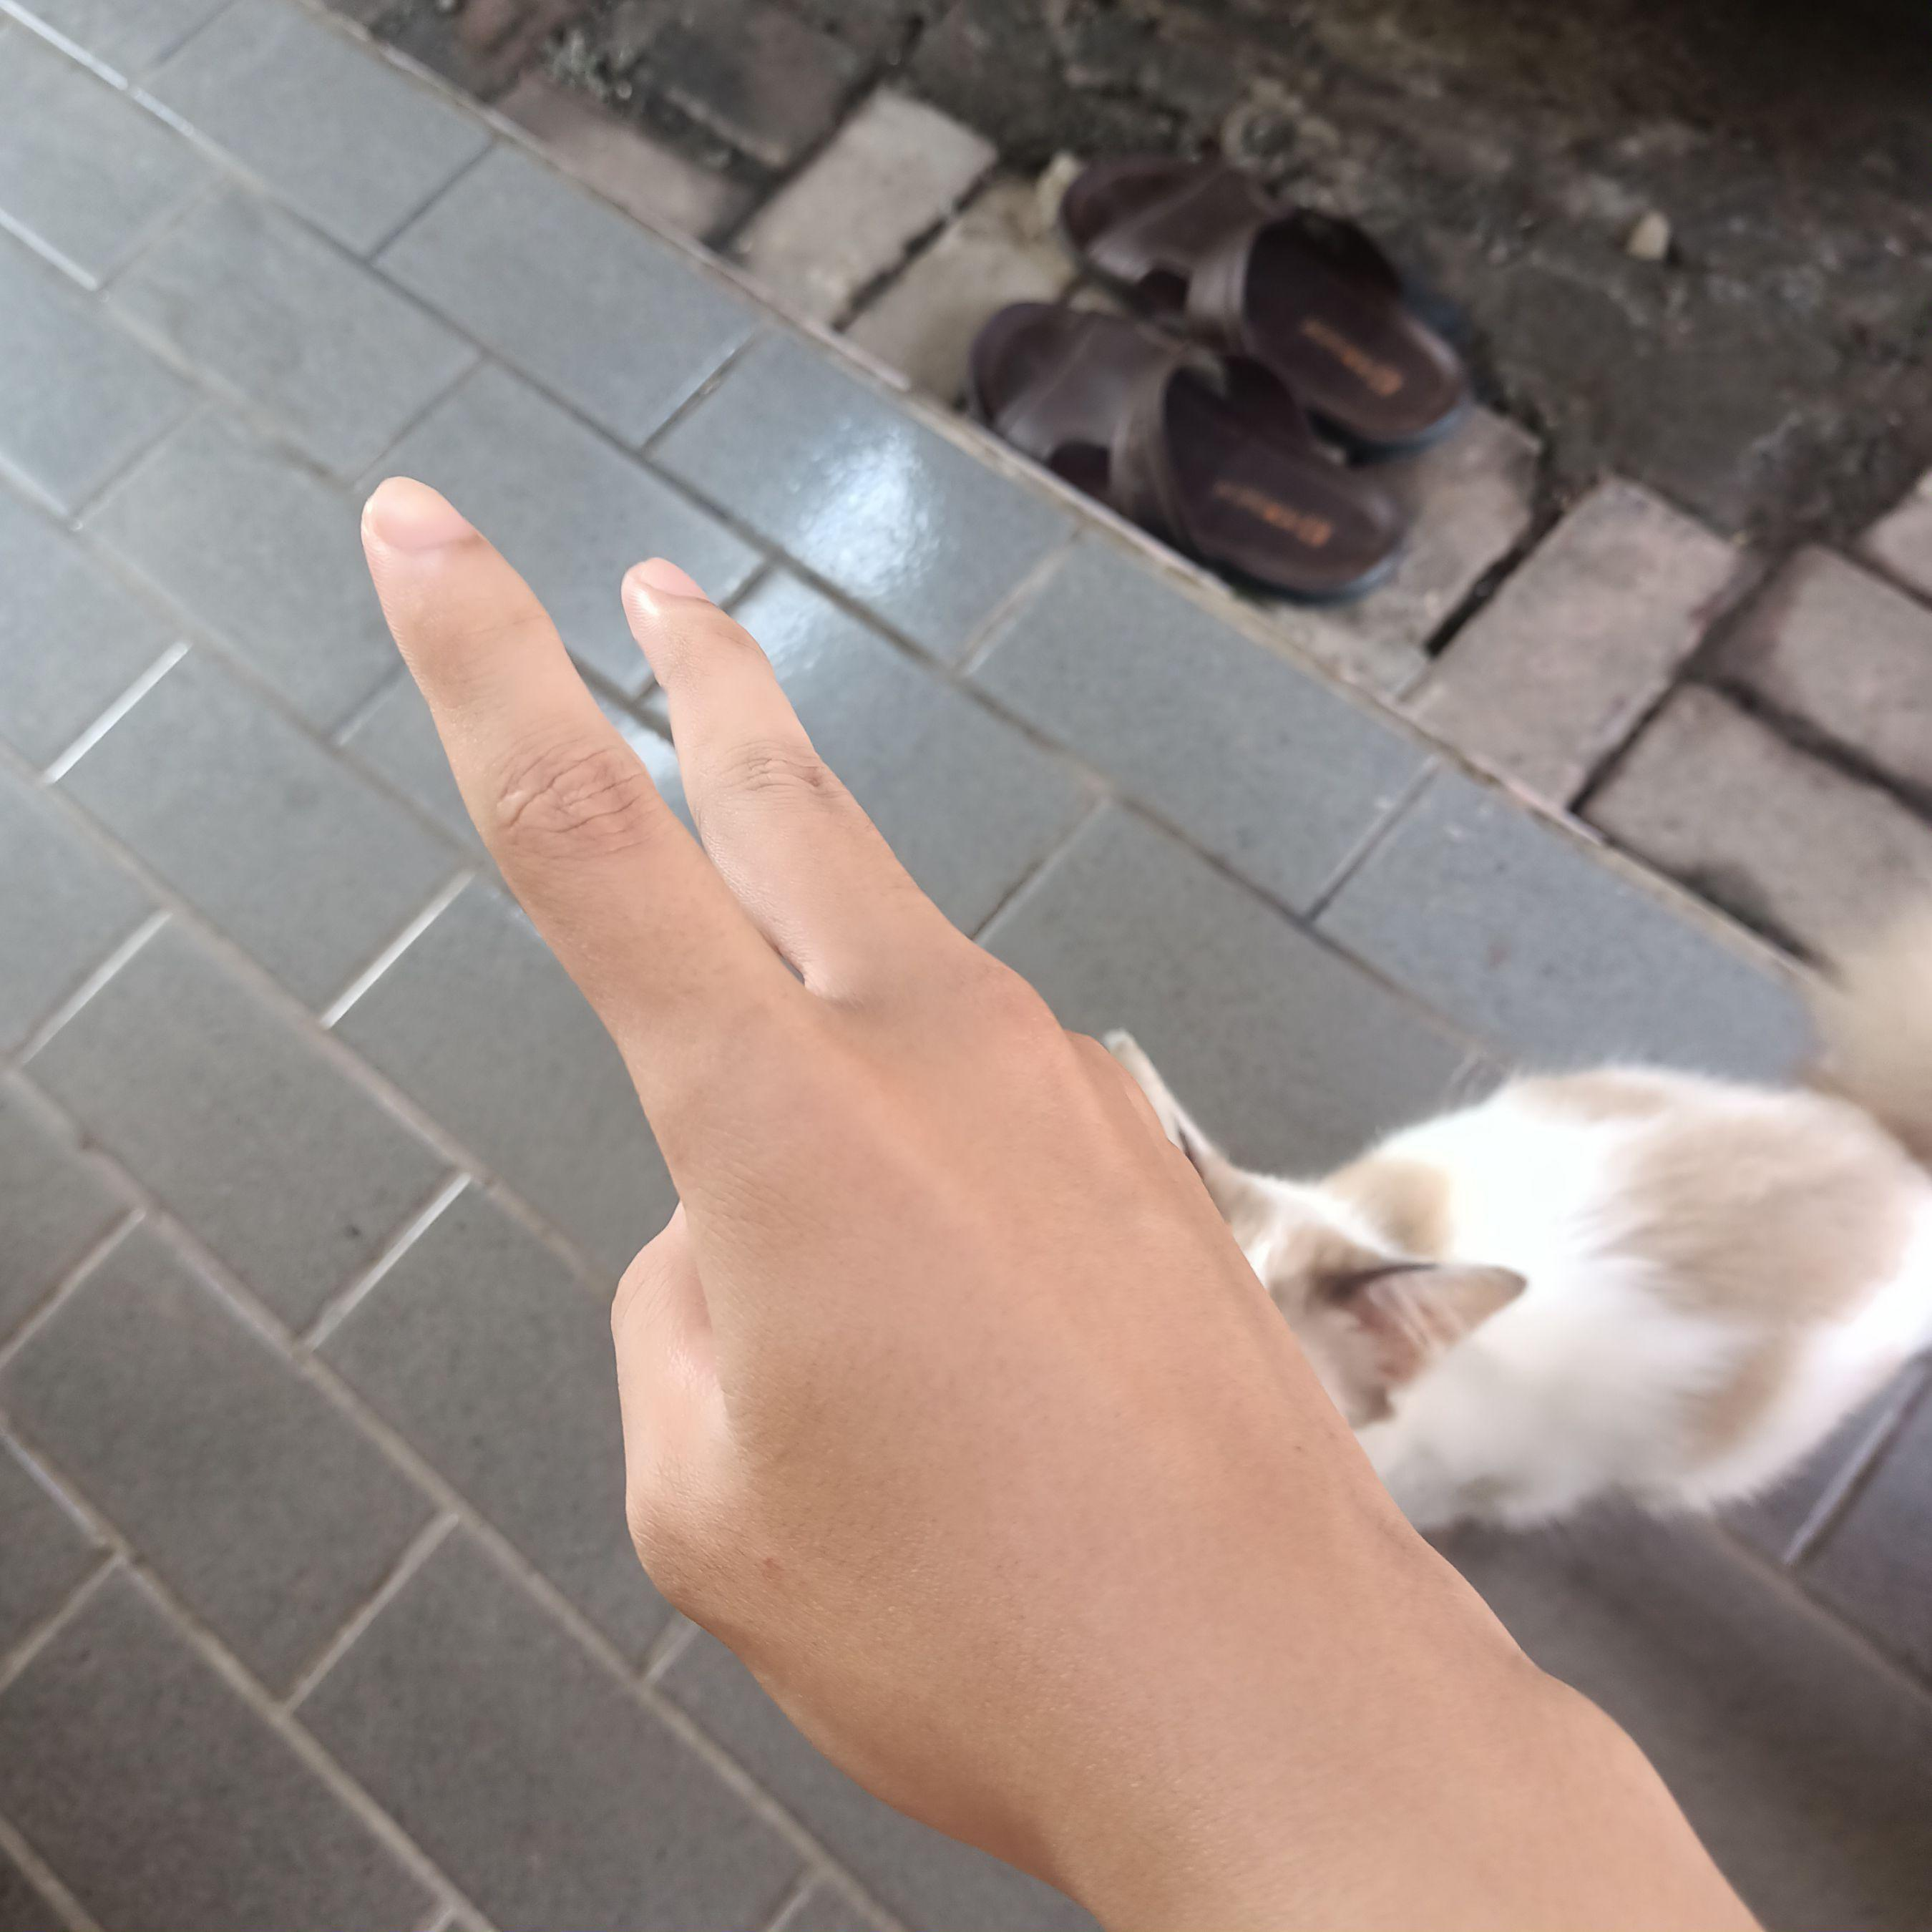scissors: (347, 446, 1529, 1891)
